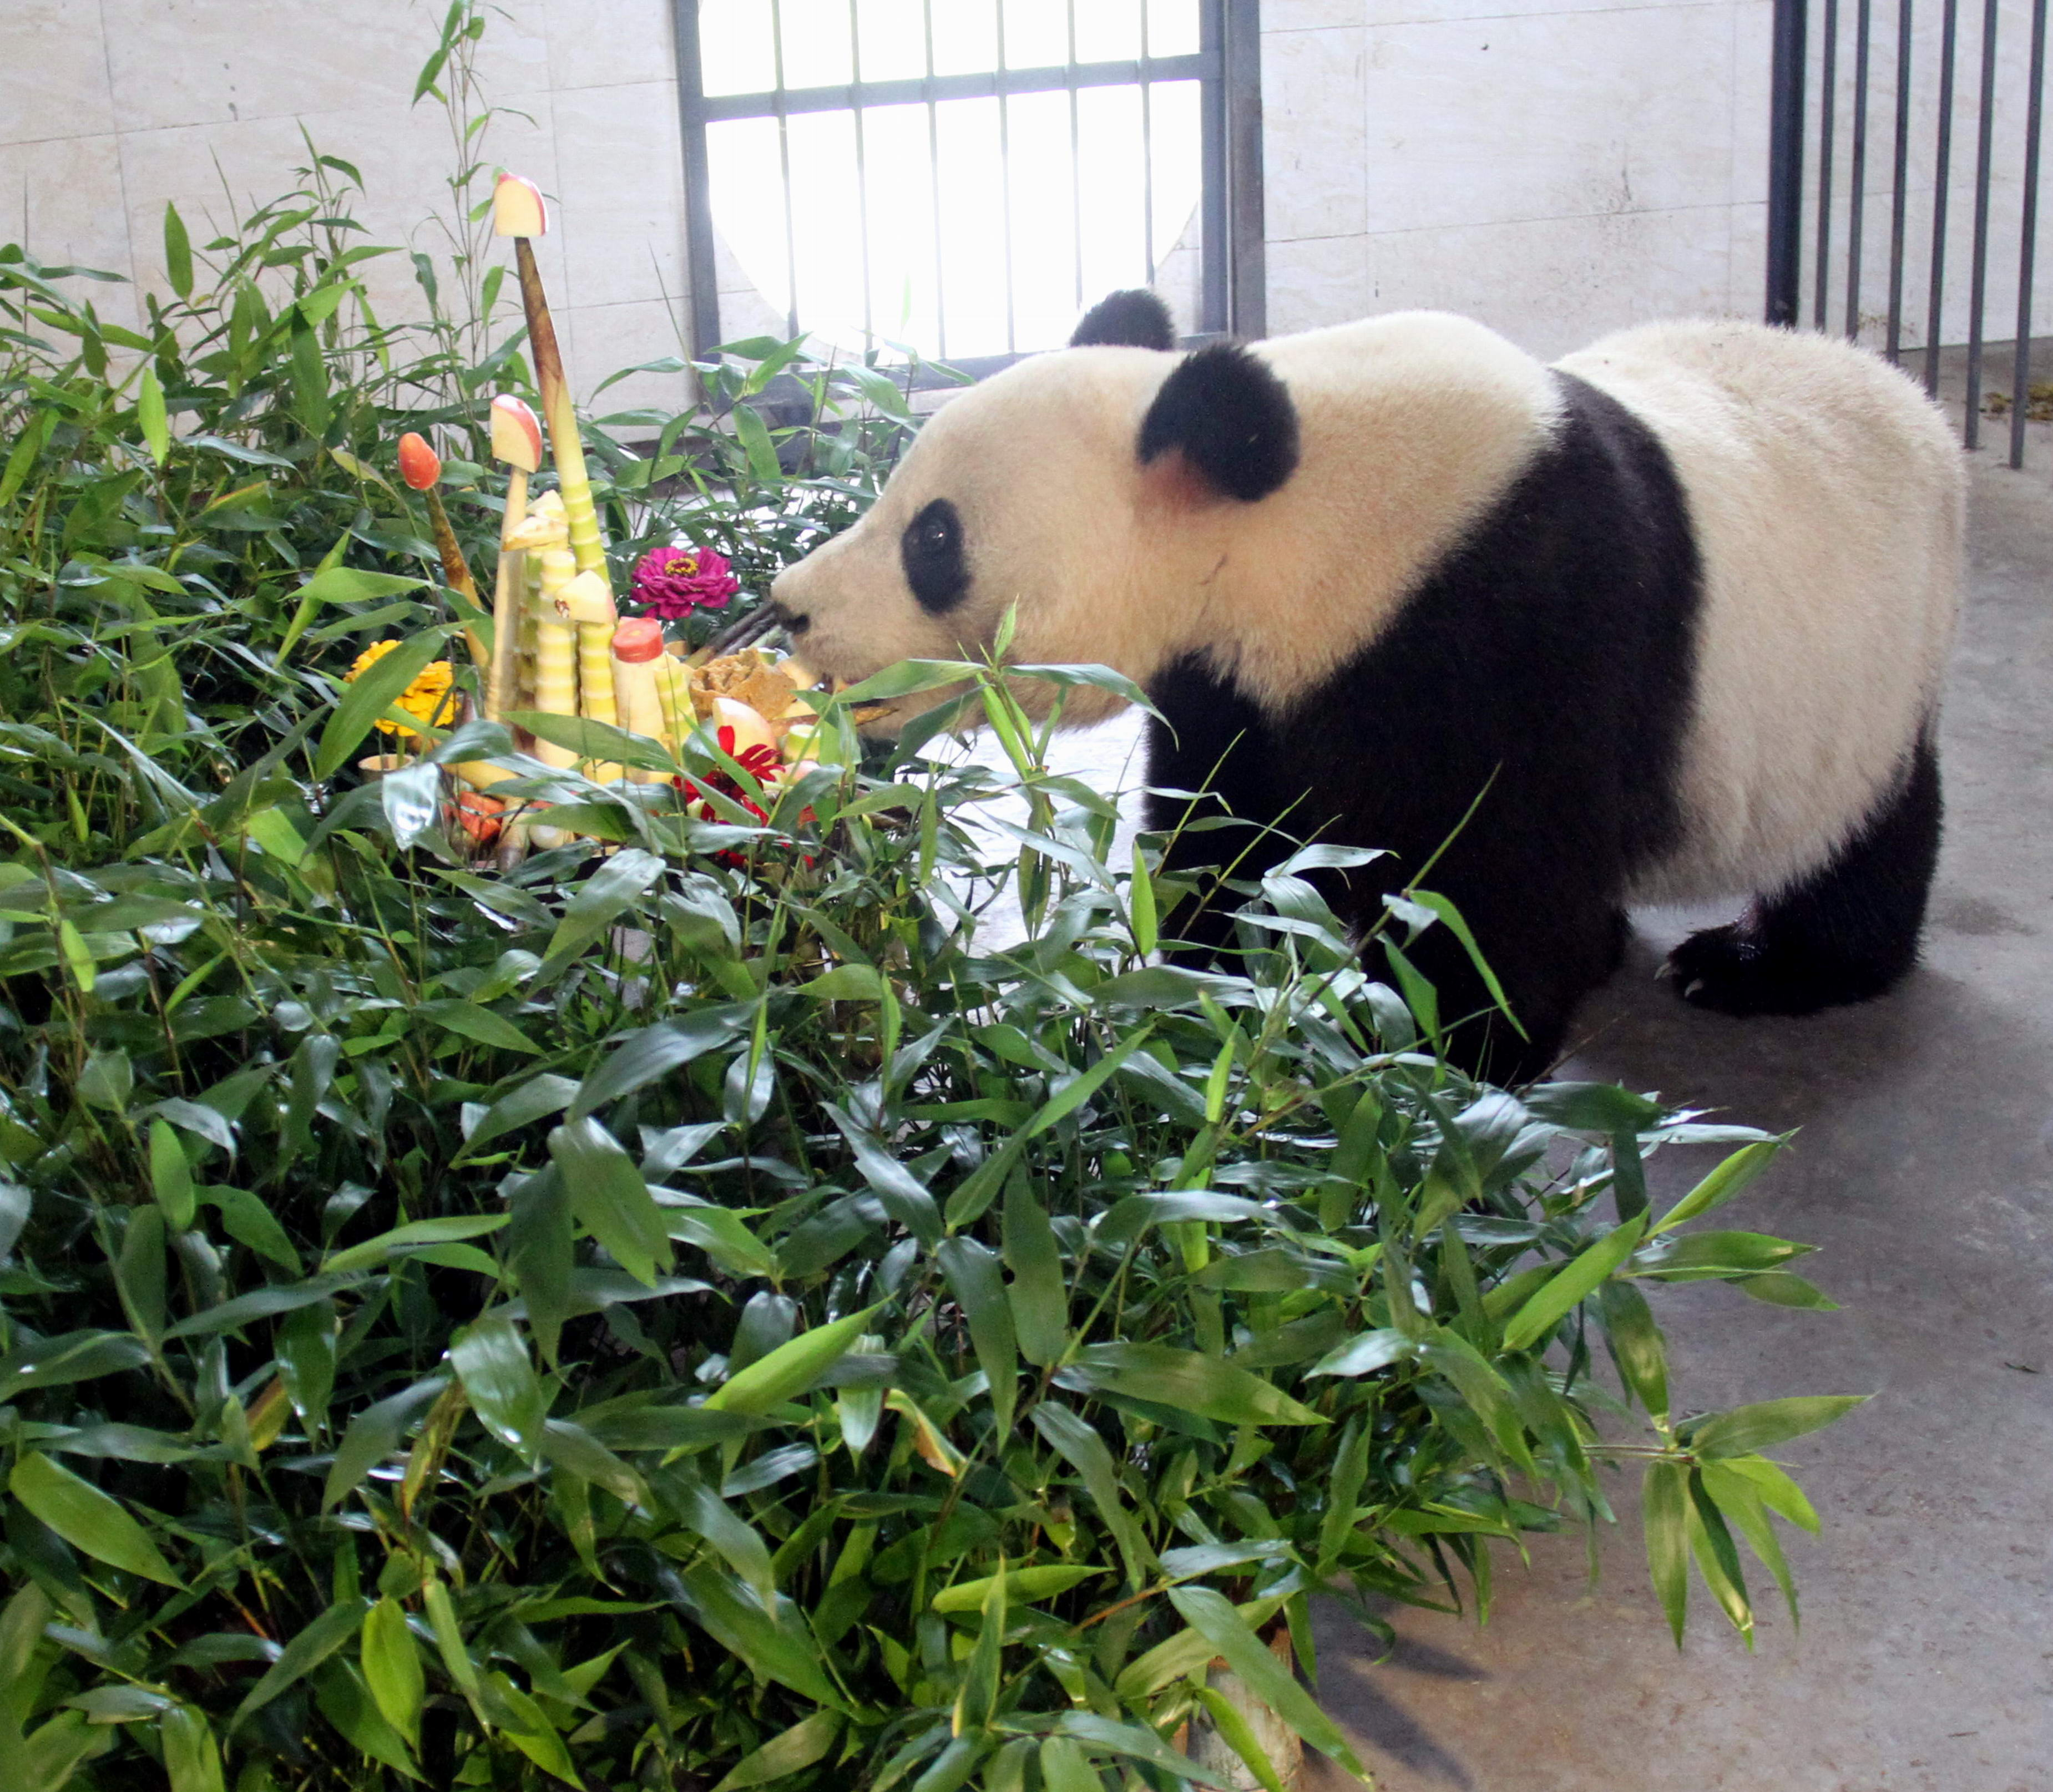panda: (745, 356, 2002, 1078)
